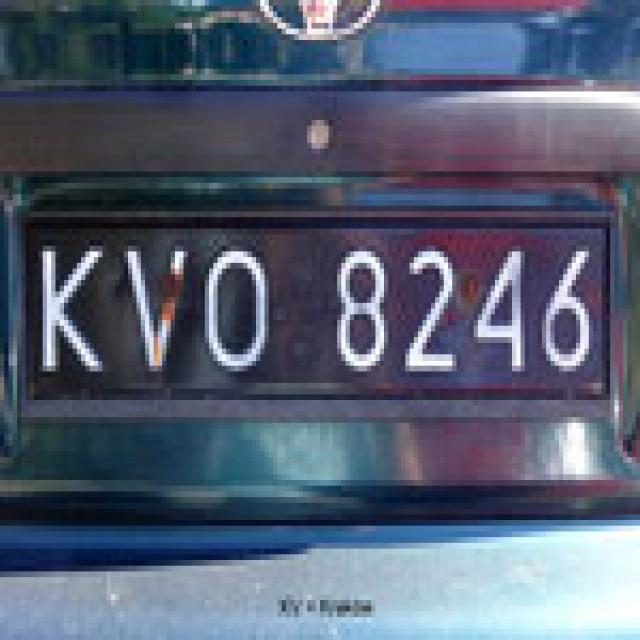pl_license_plate: (21, 223, 602, 388)
